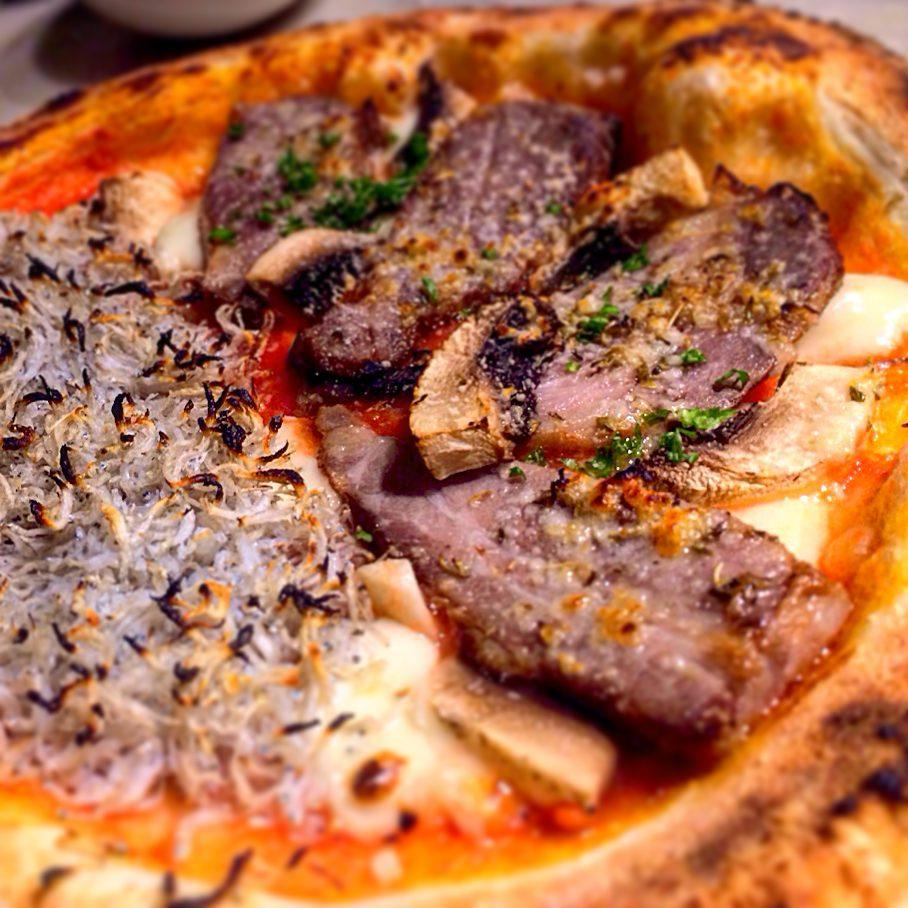Ham: (323, 410, 859, 750), (427, 198, 822, 469), (307, 109, 605, 370), (181, 95, 379, 288)
Pizza: (0, 7, 908, 908)
